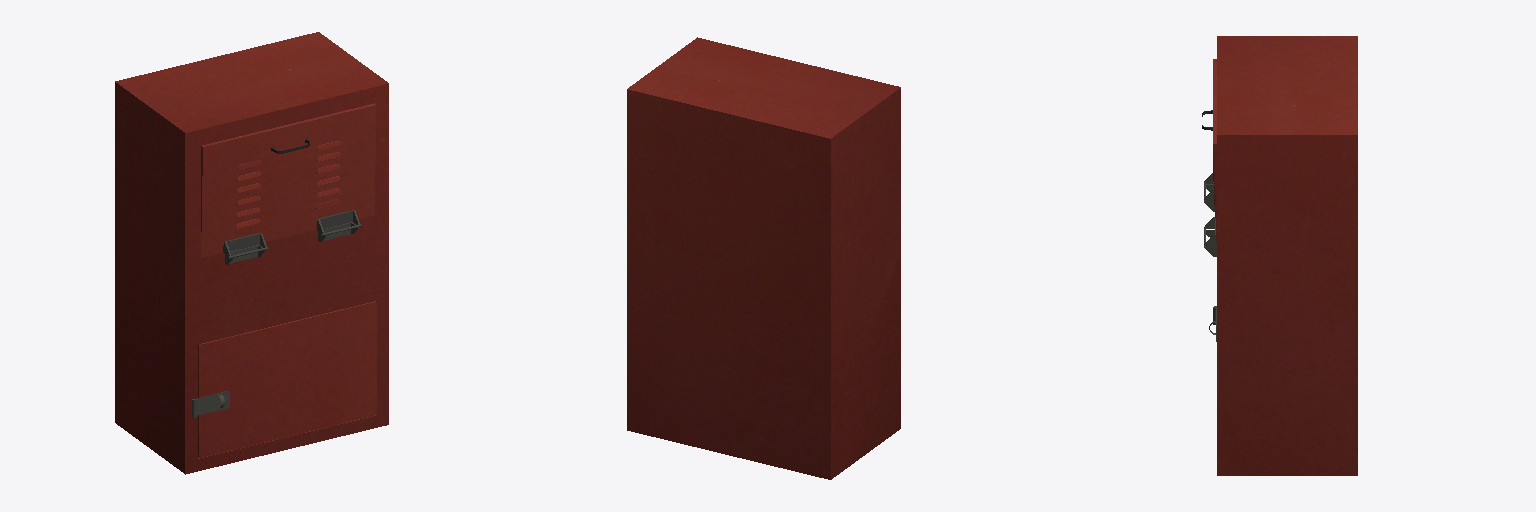
3 views of the same model, side by side, from view 1: azimuth 30°, elevation 25°; view 2: azimuth 150°, elevation 25°; view 3: azimuth 270°, elevation 25° (orthographic).
Parts seen in each view (by area): view 1: Laundry_Locker.obj; view 2: Laundry_Locker.obj; view 3: Laundry_Locker.obj.
Boxes of the visible parts, x1,y1,x2,y2 form: Laundry_Locker.obj: [115, 32, 388, 474]; Laundry_Locker.obj: [627, 37, 900, 479]; Laundry_Locker.obj: [1202, 36, 1357, 475].
Bounding box in the file's own units: 5 × 8 × 3.33.
Materials: 3 (1 with a texture image).